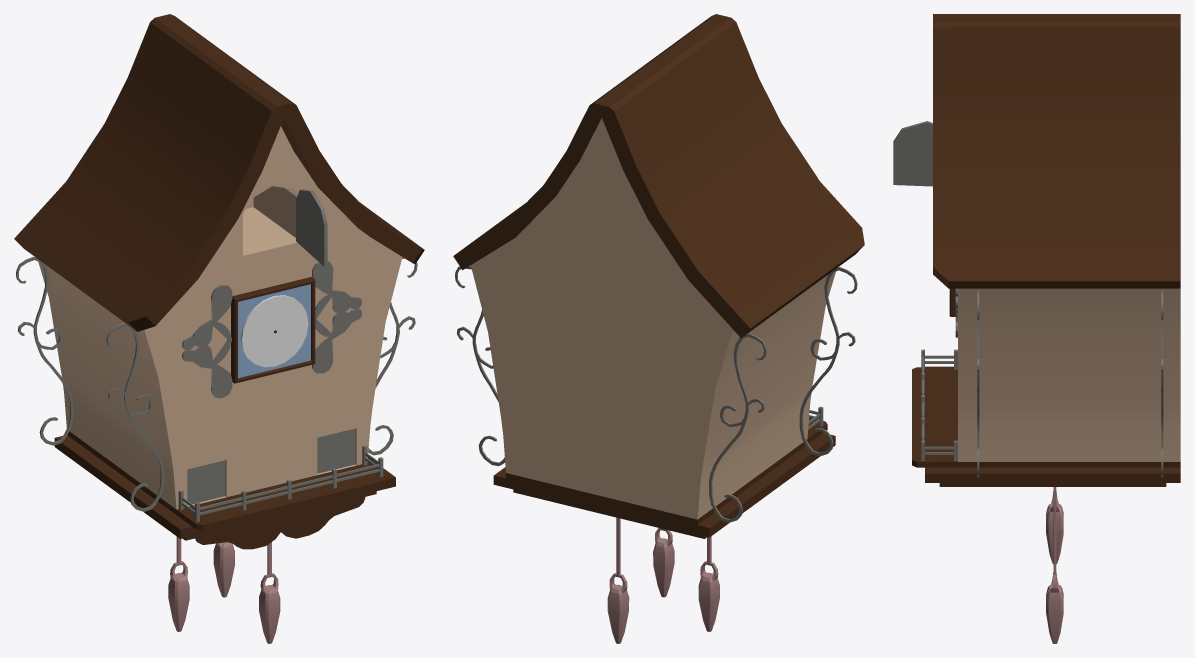
File: CuckooClock.fbx
3 views of the same model, side by side, from view 1: azimuth 30°, elevation 25°; view 2: azimuth 150°, elevation 25°; view 3: azimuth 270°, elevation 25° (orthographic).
Visible parts, largest first — view 1: polySurface88; view 2: polySurface88; view 3: polySurface88.
Boxes of the visible parts, x1,y1,x2,y2 form: polySurface88: (14,14,424,643); polySurface88: (453,14,864,643); polySurface88: (893,14,1180,643).
Size of the model in its own units: 1.63 by 2.98 by 1.29.
